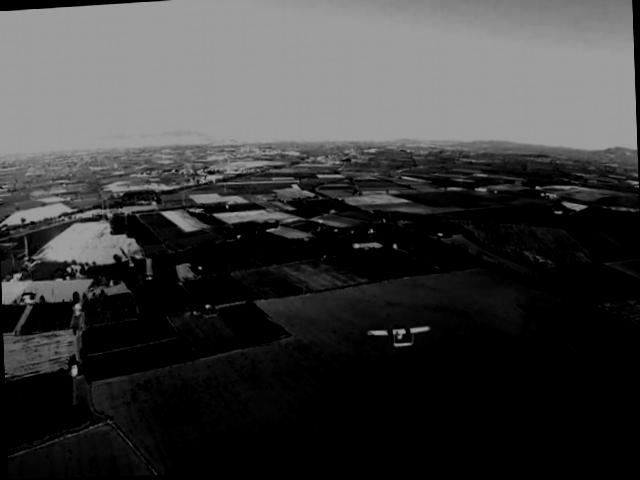hedef: (358, 317, 436, 357)
